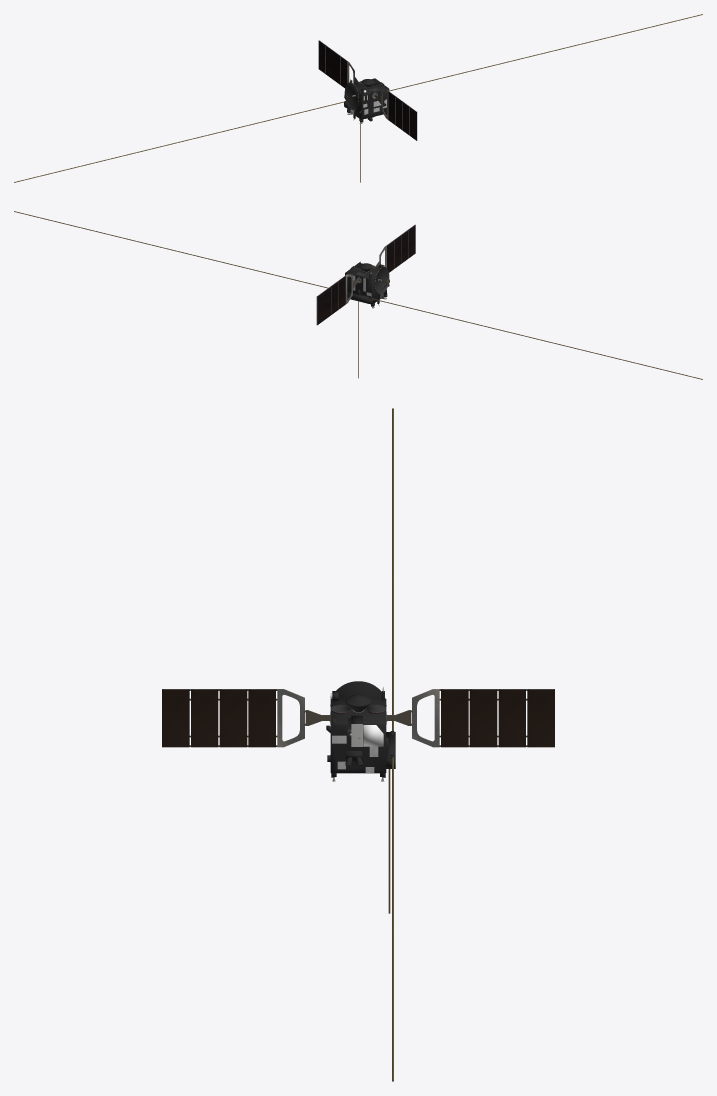
Rendered from mex.glb.
The picture shows the model from 3 angles, top to bottom: view 1: azimuth 30°, elevation 25°; view 2: azimuth 150°, elevation 25°; view 3: azimuth 270°, elevation 25°; orthographic projection. The views are drawn at different scales.
Visible parts, largest first — view 1: shiny_panel, tex_01, MarsExpress, AO_dish, tex_03; view 2: shiny_panel, tex_01, MarsExpress, AO_dish, tex_03; view 3: tex_01, MarsExpress, tex_03.
Boxes of the visible parts, x1,y1,x2,y2 form: shiny_panel: (318, 40, 416, 140); tex_01: (14, 14, 702, 182); MarsExpress: (344, 78, 389, 122); AO_dish: (344, 81, 377, 109); tex_03: (325, 45, 402, 130); shiny_panel: (317, 225, 415, 324); tex_01: (14, 211, 702, 379); MarsExpress: (345, 261, 389, 306); AO_dish: (357, 265, 389, 294); tex_03: (331, 229, 408, 314); tex_01: (162, 408, 554, 1081); MarsExpress: (326, 681, 395, 777); tex_03: (189, 686, 527, 781).
Bounding box in the file's own units: 48.43 × 7.53 × 11.97.
7 materials, 5 textured.
